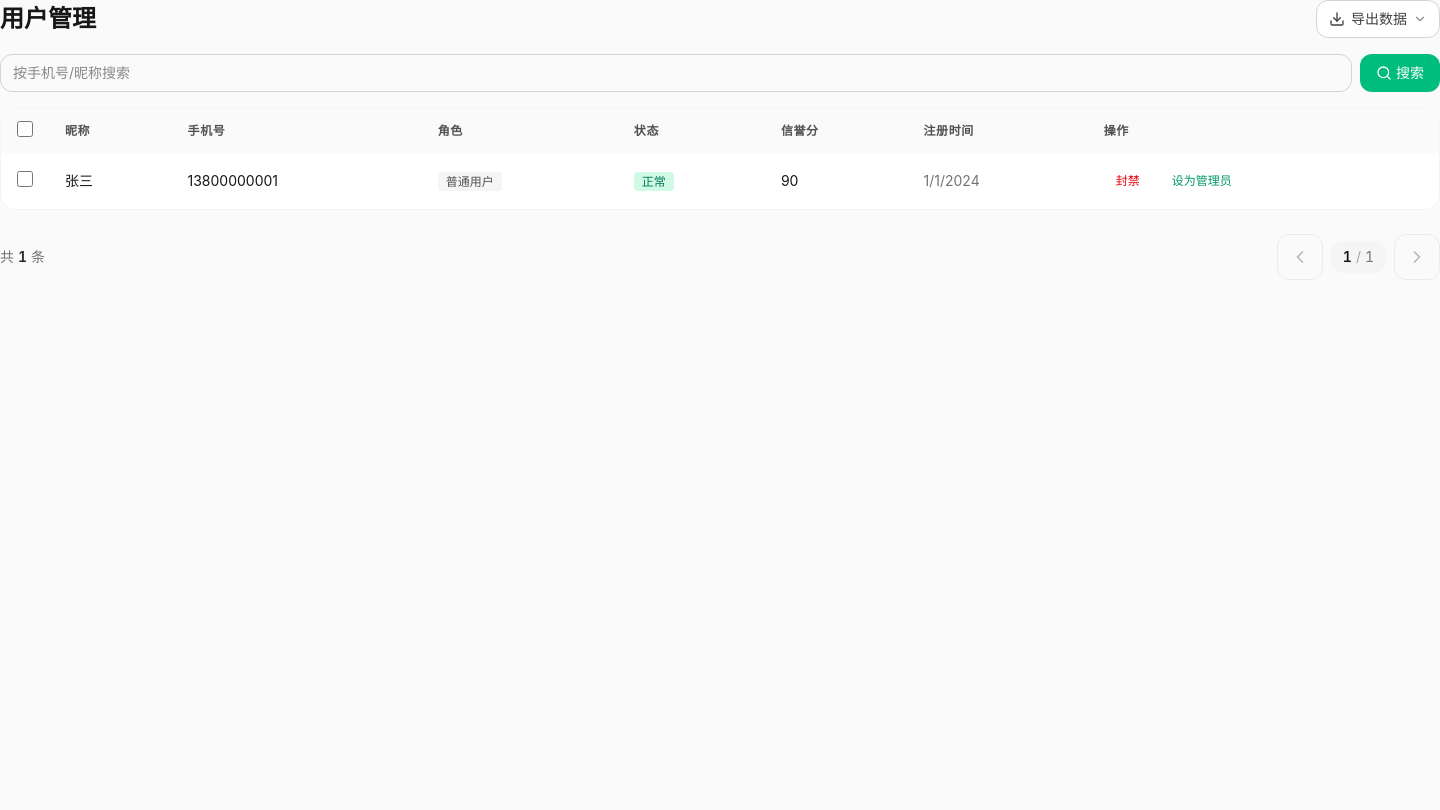
Test: UserManagement 封禁/解封弹窗 › 封禁失败显示错误提示
Expected: the text "张三" is shown, 49,153 -> 172,209
Click the button "封禁": x=1128, y=181 1104,165 -> 1152,197
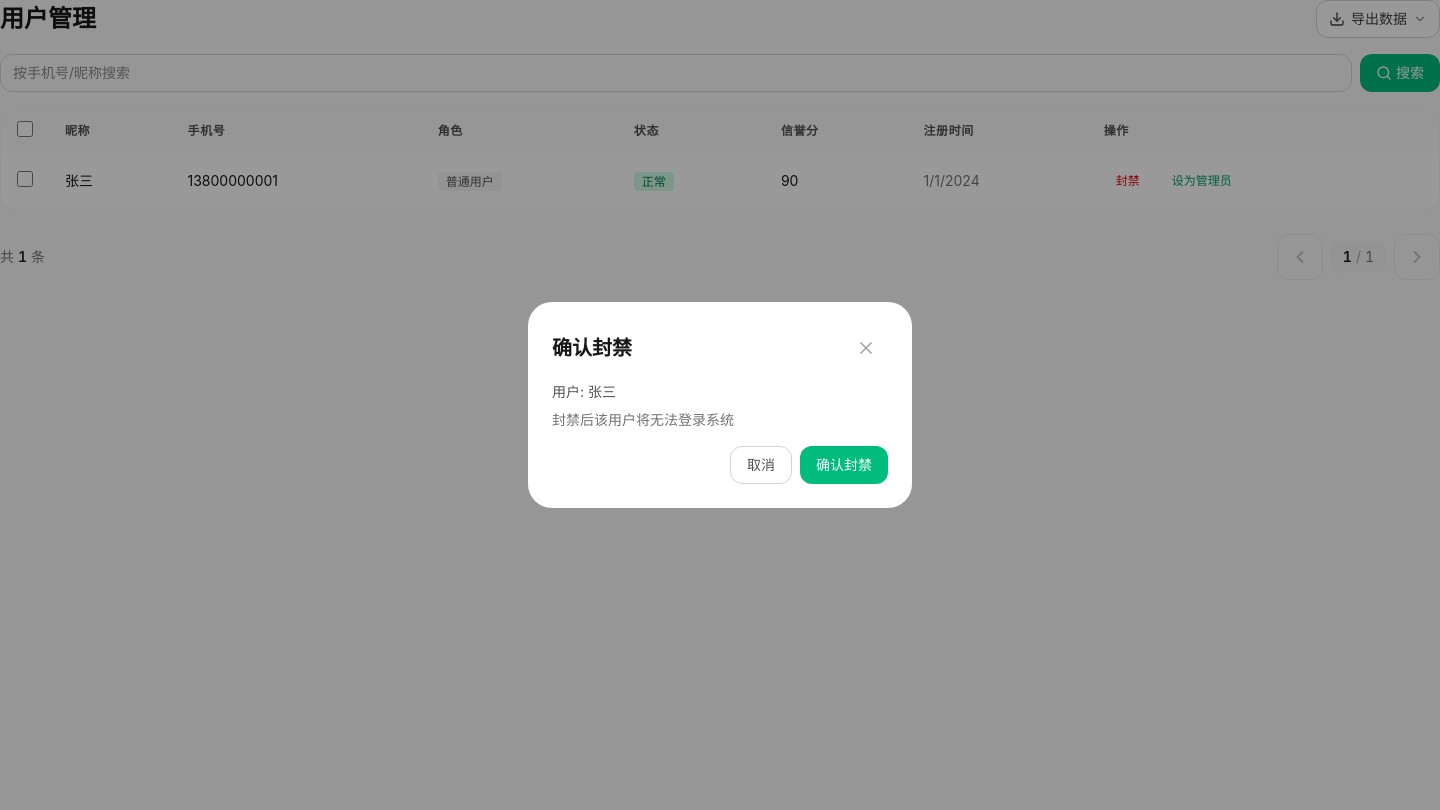
Click the button "确认封禁": x=844, y=465 800,446 -> 888,484
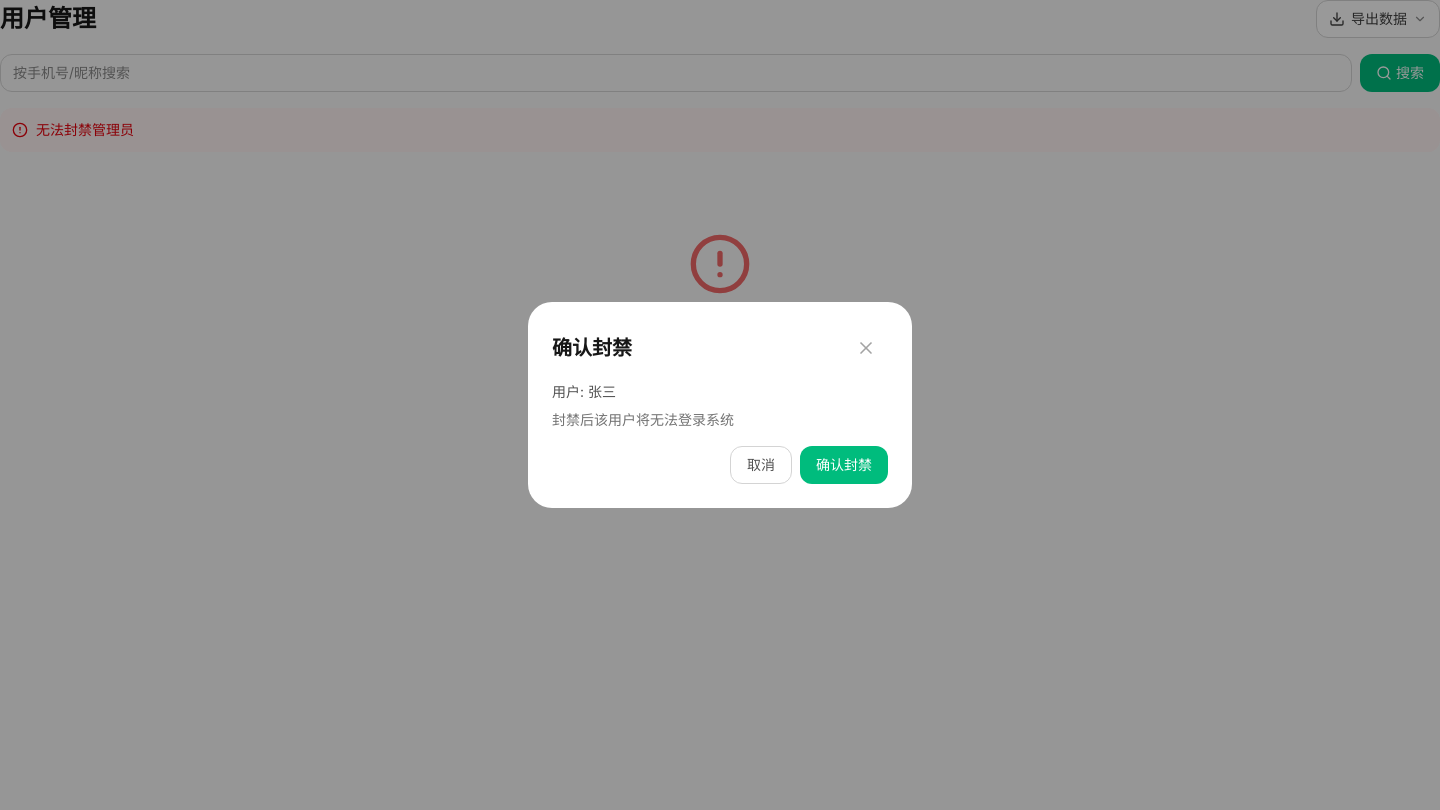
Expected: the text "无法封禁管理员" is shown, 0,108 -> 1439,152
